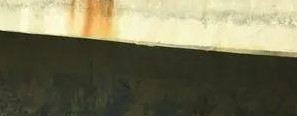Corrosion: (68, 1, 115, 40)
